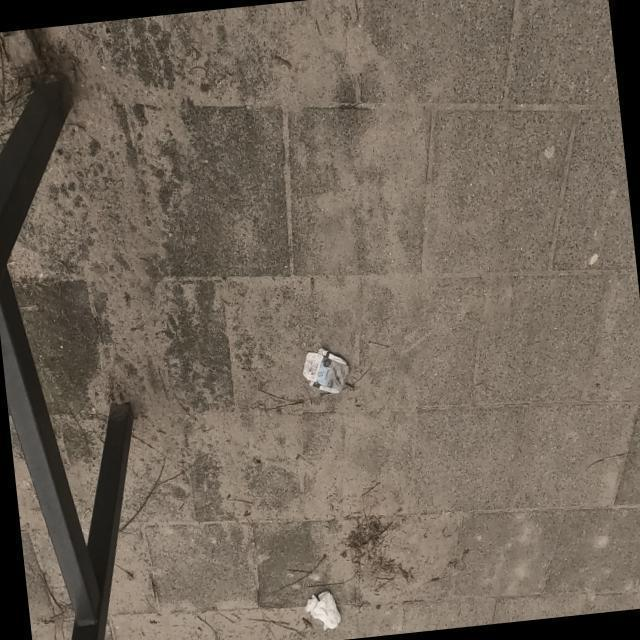Paper: (301, 347, 351, 395), (303, 589, 343, 632)
